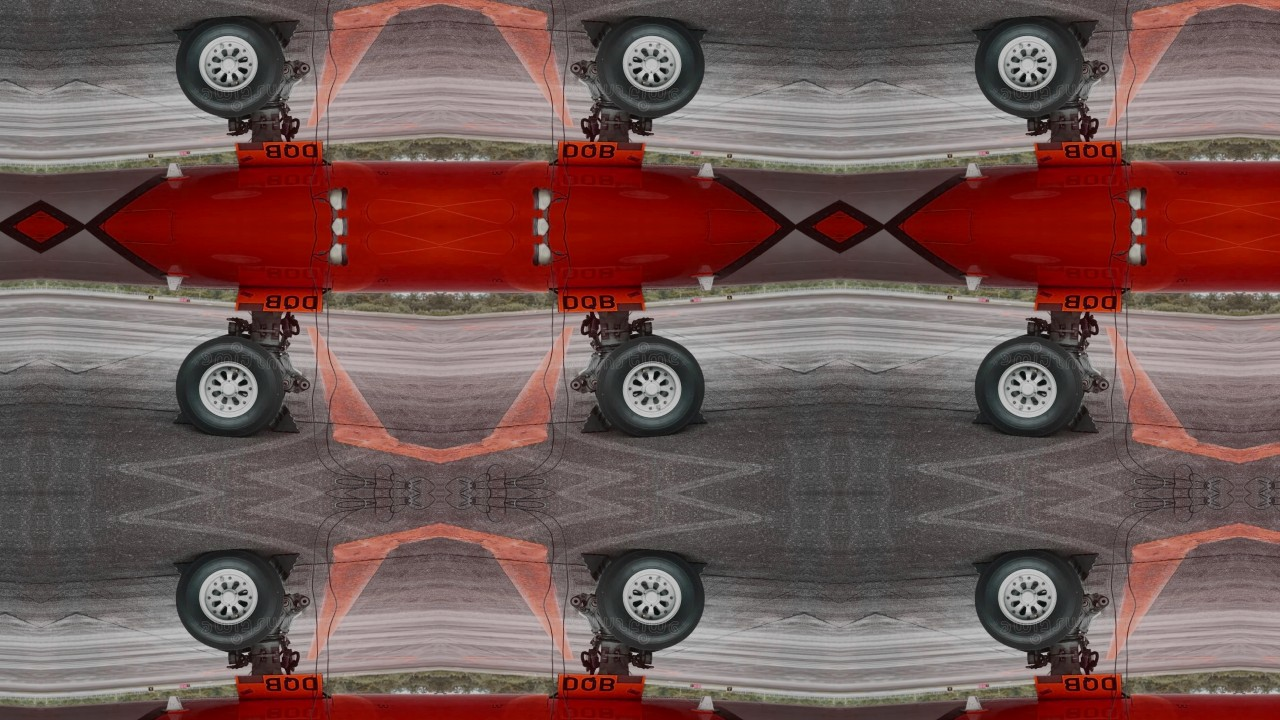chock: (268, 20, 301, 51), (579, 20, 612, 51), (1068, 20, 1101, 51), (268, 402, 301, 433), (579, 402, 612, 433), (1068, 402, 1101, 433), (268, 554, 301, 585), (579, 554, 612, 585), (1068, 554, 1101, 585)
wheel: (174, 14, 290, 122), (590, 14, 706, 122), (974, 14, 1090, 122), (174, 331, 290, 439), (590, 331, 706, 439), (974, 331, 1090, 439), (174, 548, 290, 656), (590, 548, 706, 656), (974, 548, 1090, 656)
